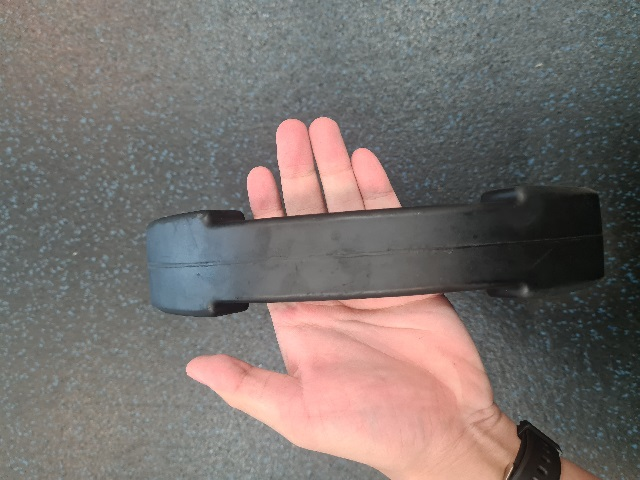weights: (145, 183, 607, 320)
